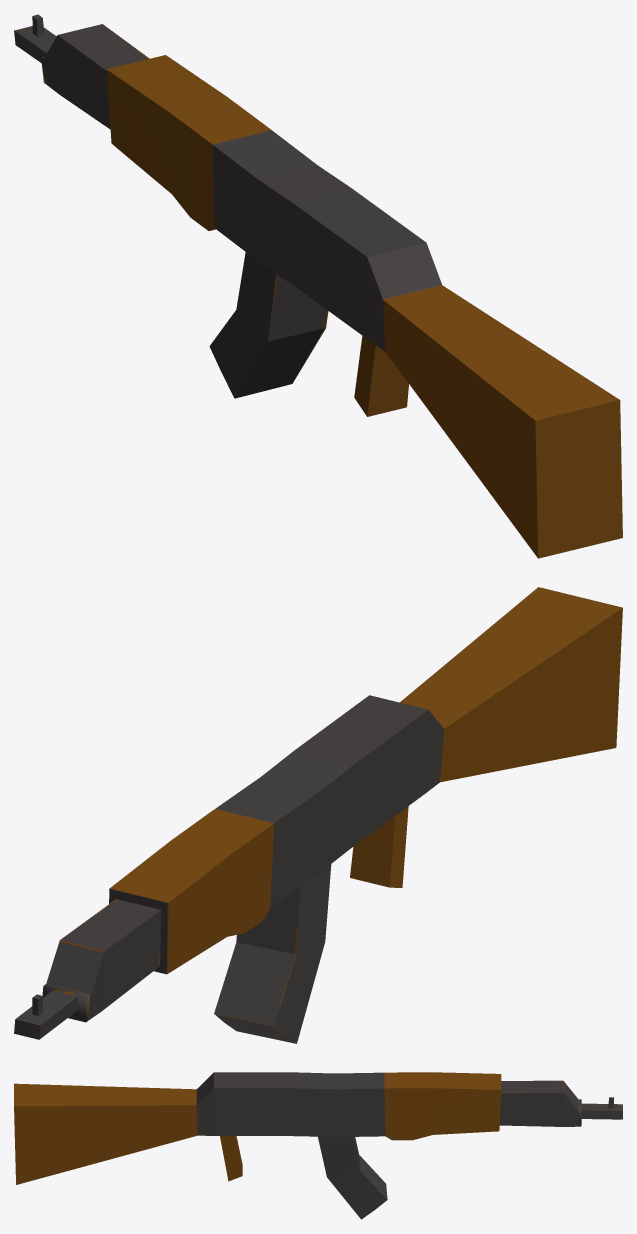
File: ak with texture.fbx
3 renders of one model, top to bottom at view 1: azimuth 30°, elevation 25°; view 2: azimuth 150°, elevation 25°; view 3: azimuth 270°, elevation 25°, orthographic. The views are drawn at different scales.
Parts seen in each view (by area): view 1: Cube.001; view 2: Cube.001; view 3: Cube.001.
Boxes of the visible parts, x1,y1,x2,y2 form: Cube.001: (14, 14, 622, 558); Cube.001: (14, 587, 622, 1043); Cube.001: (14, 1072, 622, 1219).
Bounding box in the file's own units: 26.4 × 67.4 × 283.
1 material, 1 textured.
